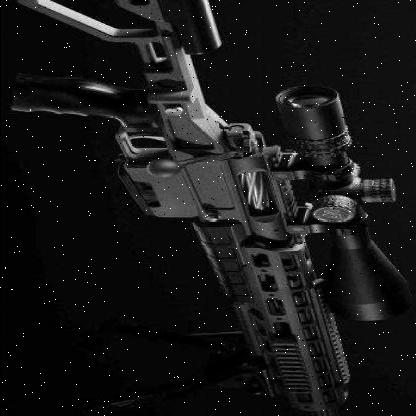rifle: (1, 0, 408, 399)
